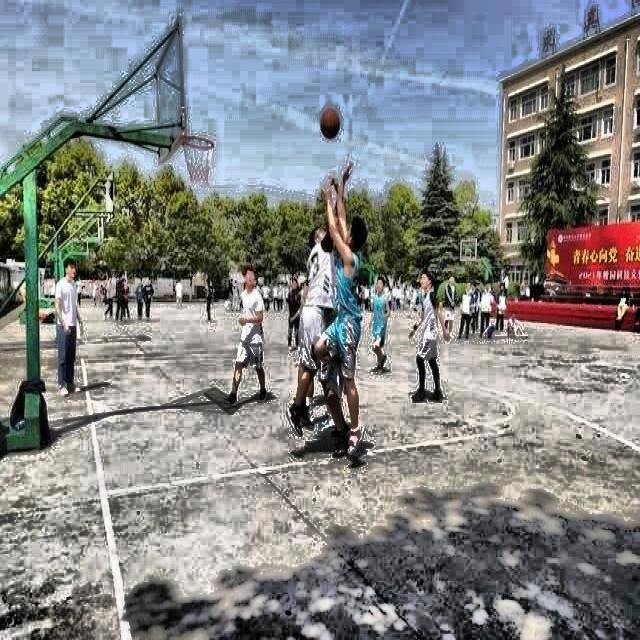rim: (184, 136, 216, 185)
